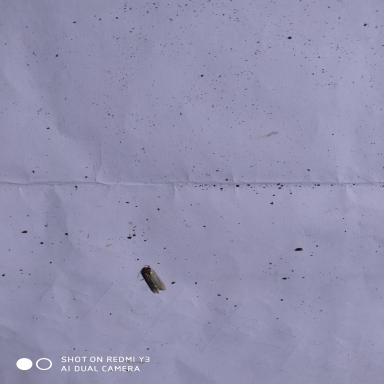pbw: (134, 261, 169, 299)
